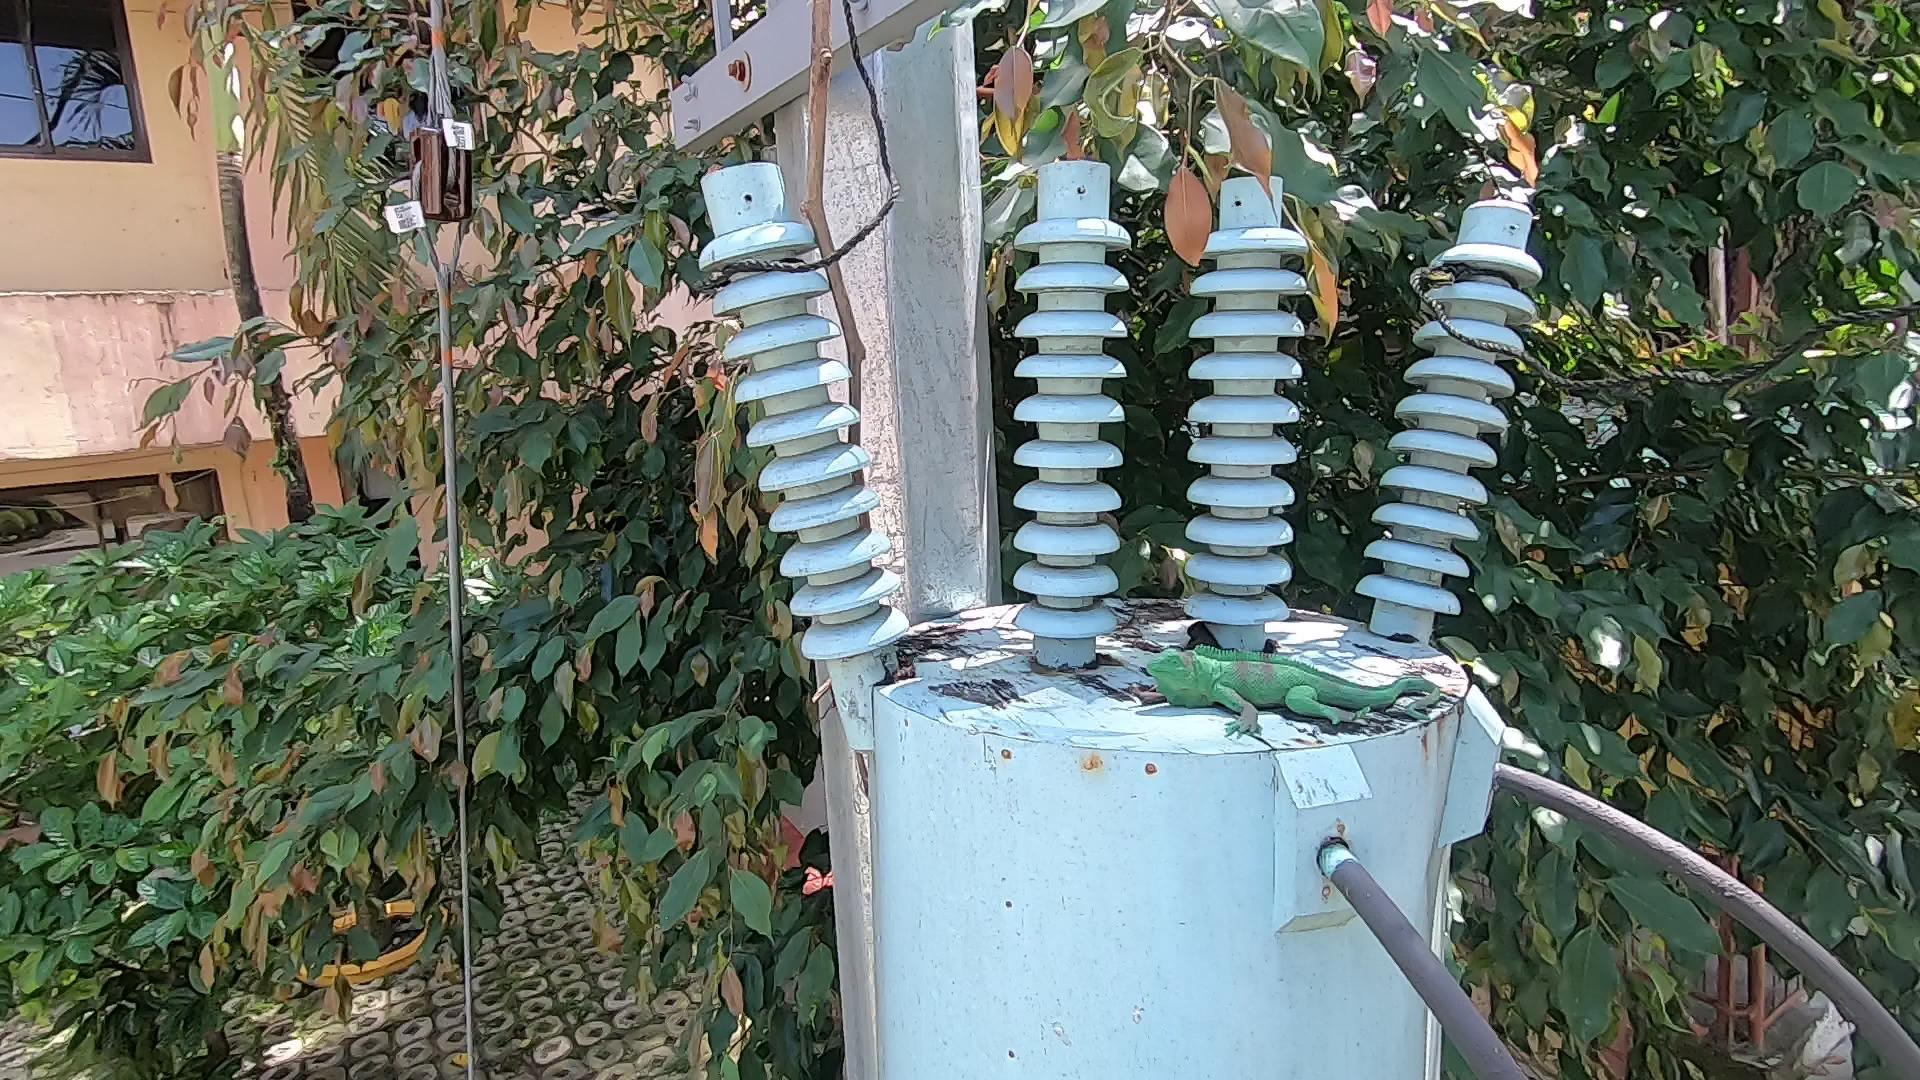branch with leaves: (1124, 75, 1404, 335)
leaf: (1172, 622, 1242, 666), (876, 636, 920, 684)
tree branch: (723, 15, 897, 810)
